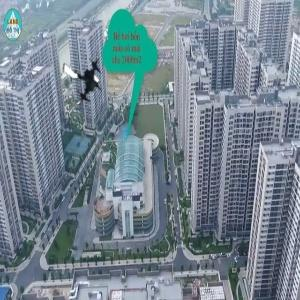drone: (55, 47, 113, 105)
